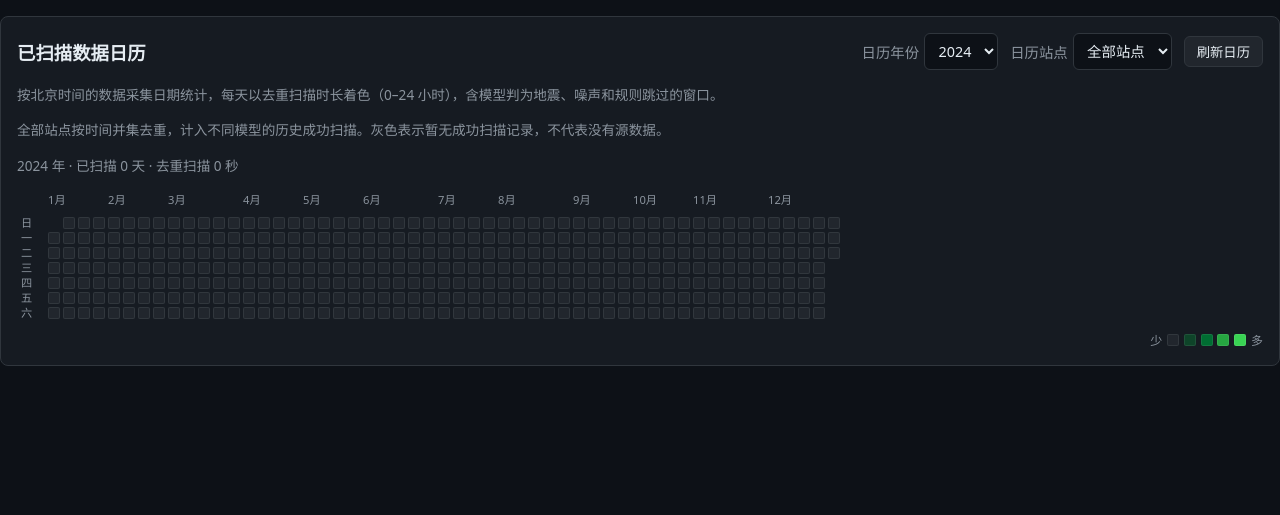
Scenario: shows an empty day's absence of scan records without claiming source data is absent
The width and height of the screenshot is (1280, 515).
Click the button named "2024-01-01".
click(54, 238)  # box [48, 232, 60, 244]
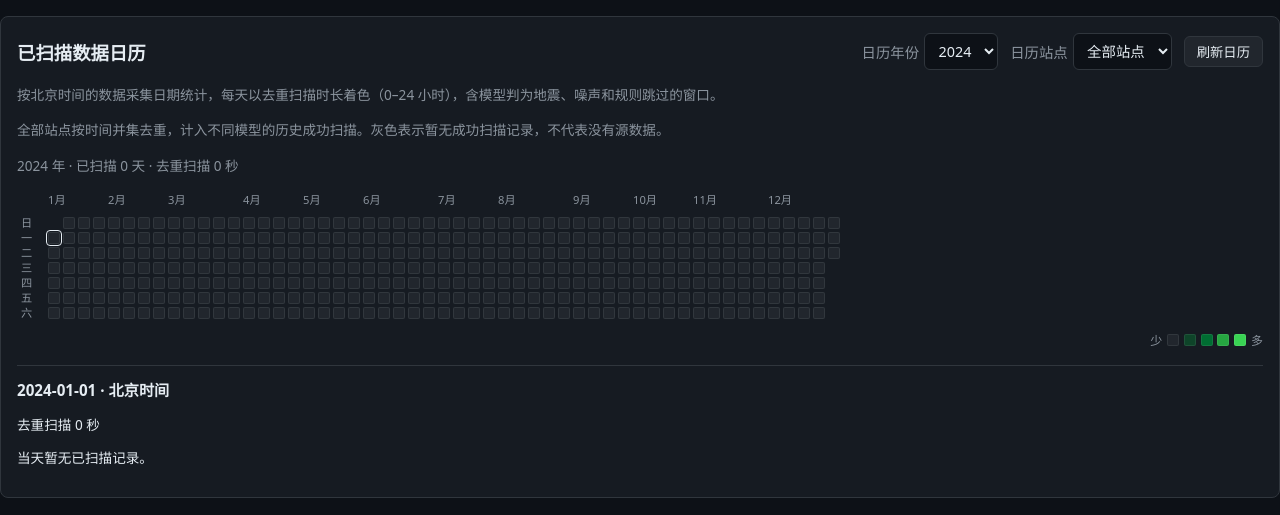
Expected: the dropdown labelled "日历年份" shows "2024", [924, 33, 998, 70]
Expected: the text "当天暂无已扫描记录。" is shown, [17, 448, 153, 467]
